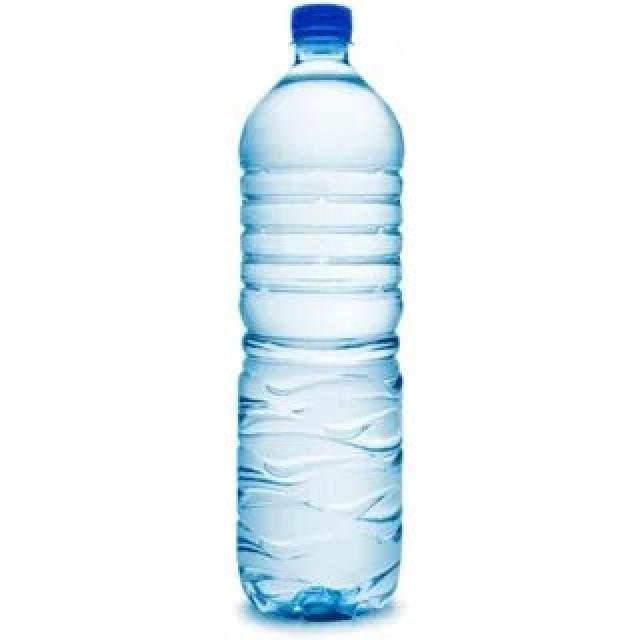blue: (235, 35, 403, 620)
